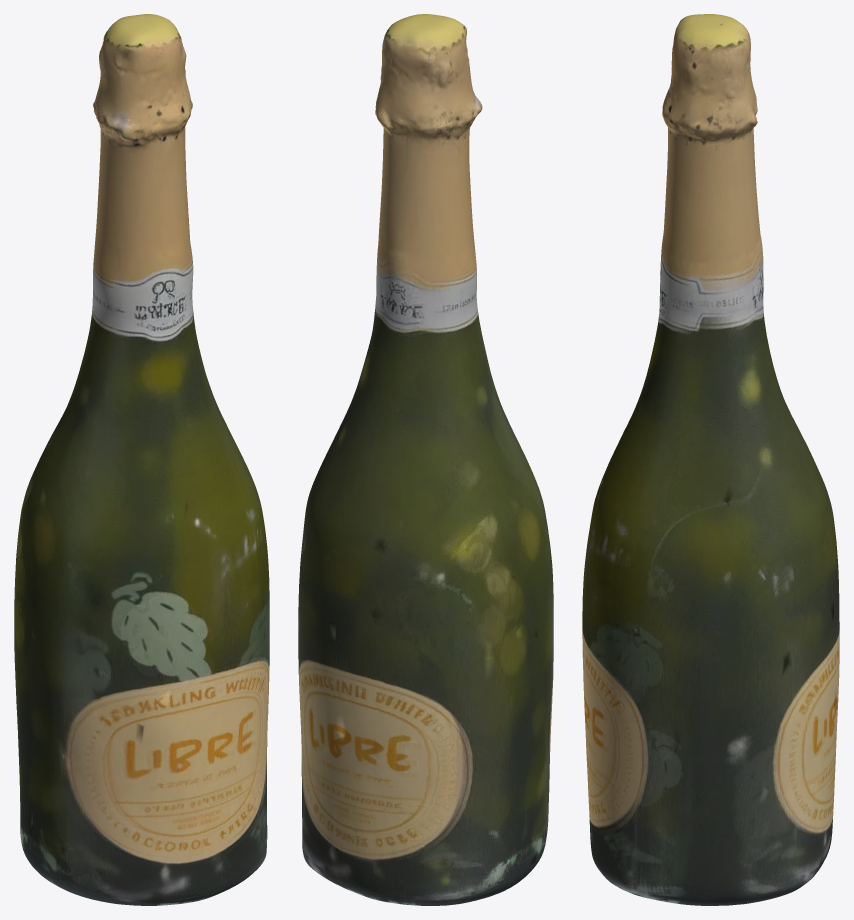
File: bottle-sparkling-white.glb
The picture shows the model from 3 angles, left to right: view 1: azimuth 30°, elevation 25°; view 2: azimuth 150°, elevation 25°; view 3: azimuth 270°, elevation 25°; orthographic projection.
Size of the model in its own units: 0.5457 by 2 by 0.5531.
1 material, 1 textured.
